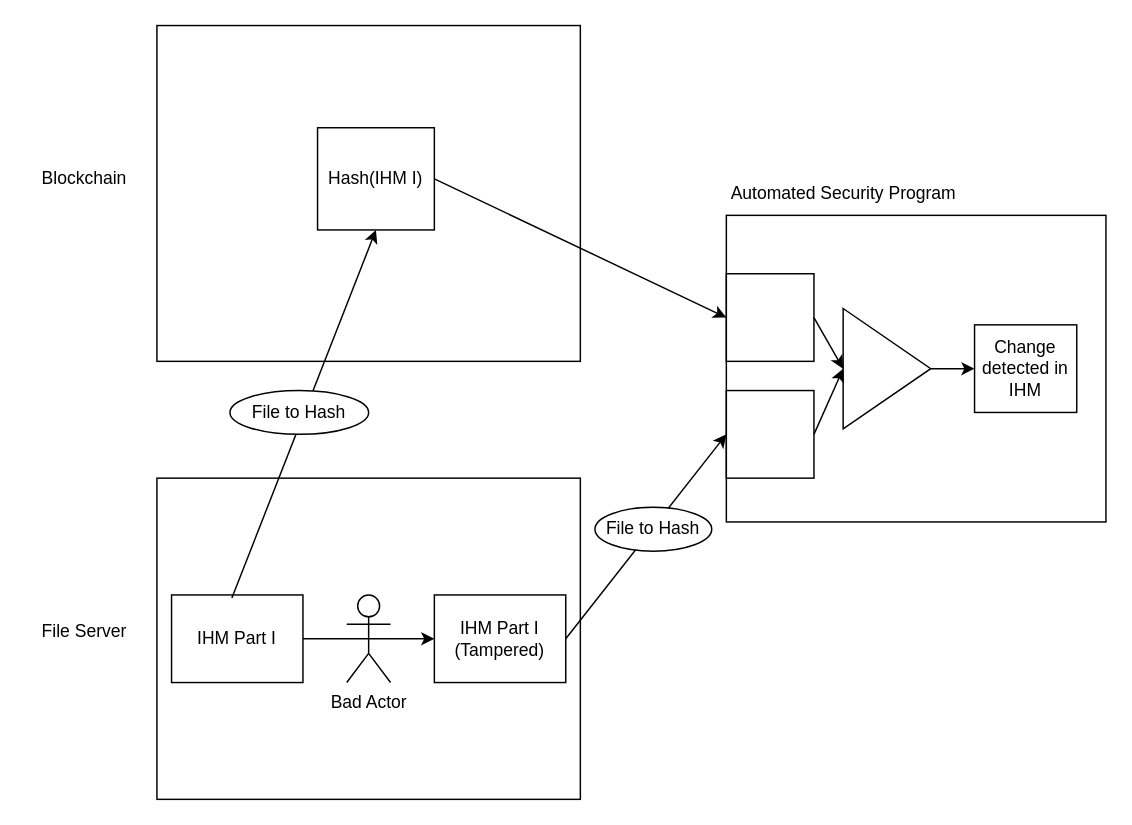
Image size: 1132x825. Some labels were removed from this diagram. The shapes that lost their labels are listed below. From the top down, each one's centre as x and y in pixels, then its label:
At [769,316]: "Mine Blockchain".
At [886,368]: "Compare".
At [769,433]: "Retrieve Hash".
